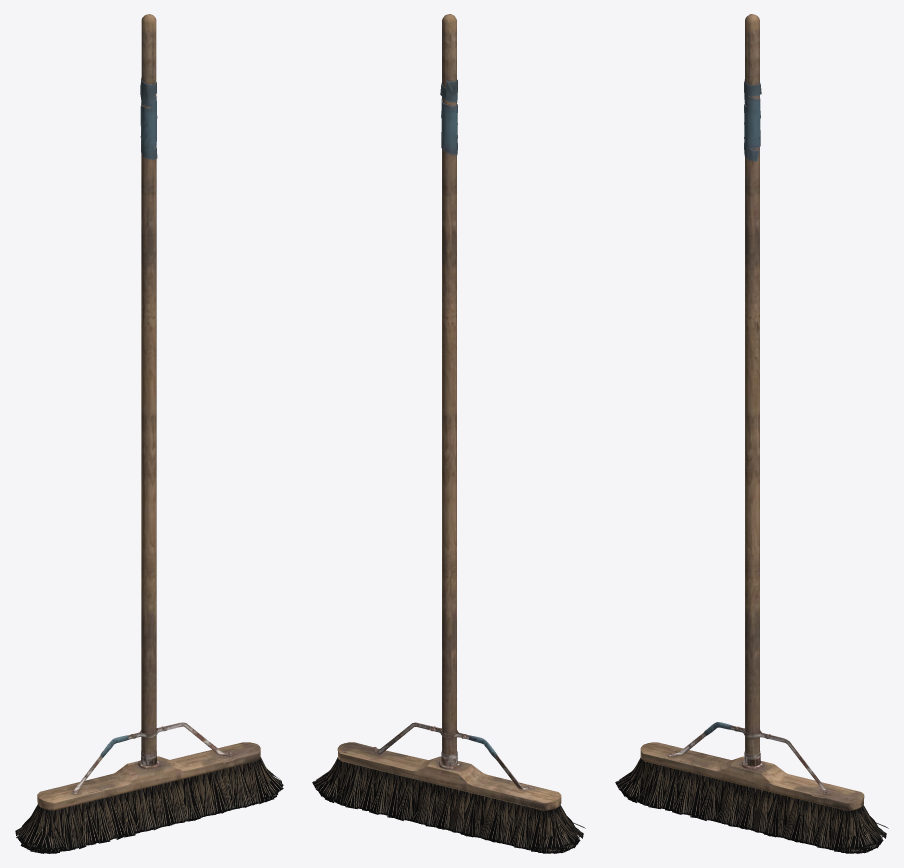
File: wooden_broom.glb
The picture shows the model from 3 angles, left to right: view 1: azimuth 30°, elevation 25°; view 2: azimuth 150°, elevation 25°; view 3: azimuth 330°, elevation 25°; orthographic projection.
Visible parts, largest first — view 1: wooden_broom_handle, wooden_broom_bristles; view 2: wooden_broom_handle, wooden_broom_bristles; view 3: wooden_broom_handle, wooden_broom_bristles.
Part boxes in pixels (x1,y1,x2,y2): wooden_broom_handle: [37, 14, 260, 810]; wooden_broom_bristles: [15, 757, 283, 853]; wooden_broom_handle: [337, 14, 561, 810]; wooden_broom_bristles: [312, 757, 585, 853]; wooden_broom_handle: [640, 14, 864, 810]; wooden_broom_bristles: [615, 757, 888, 853].
Bounding box in the file's own units: 0.4902 × 1.45 × 0.1125.
Materials: 2 (2 with a texture image).
